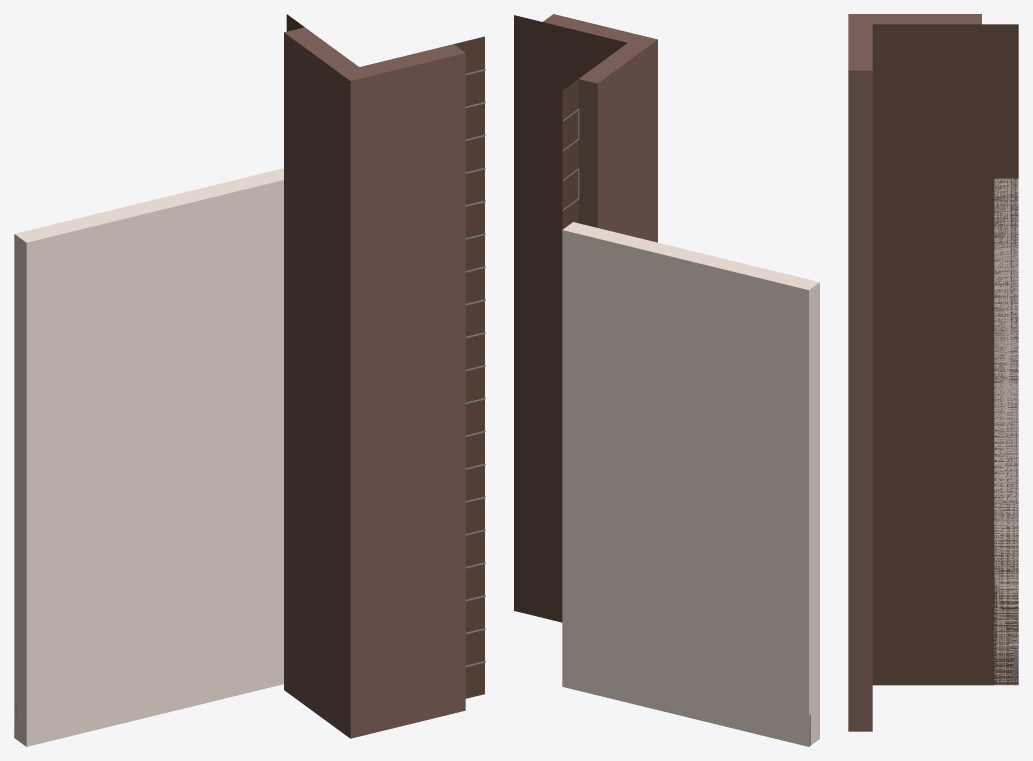
The model's file is mid-c2_close.fbx.
3 views of the same model, side by side, from view 1: azimuth 30°, elevation 25°; view 2: azimuth 150°, elevation 25°; view 3: azimuth 270°, elevation 25° (orthographic). The views are drawn at different scales.
Parts seen in each view (by area): view 1: a2001/800/mid-c2_close; view 2: a2001/800/mid-c2_close; view 3: a2001/800/mid-c2_close.
Part boxes in pixels (x1,y1,x2,y2): a2001/800/mid-c2_close: (14, 14, 485, 746); a2001/800/mid-c2_close: (514, 14, 819, 746); a2001/800/mid-c2_close: (848, 14, 1018, 731).
Size of the model in its own units: 1.9 by 3 by 0.7.
